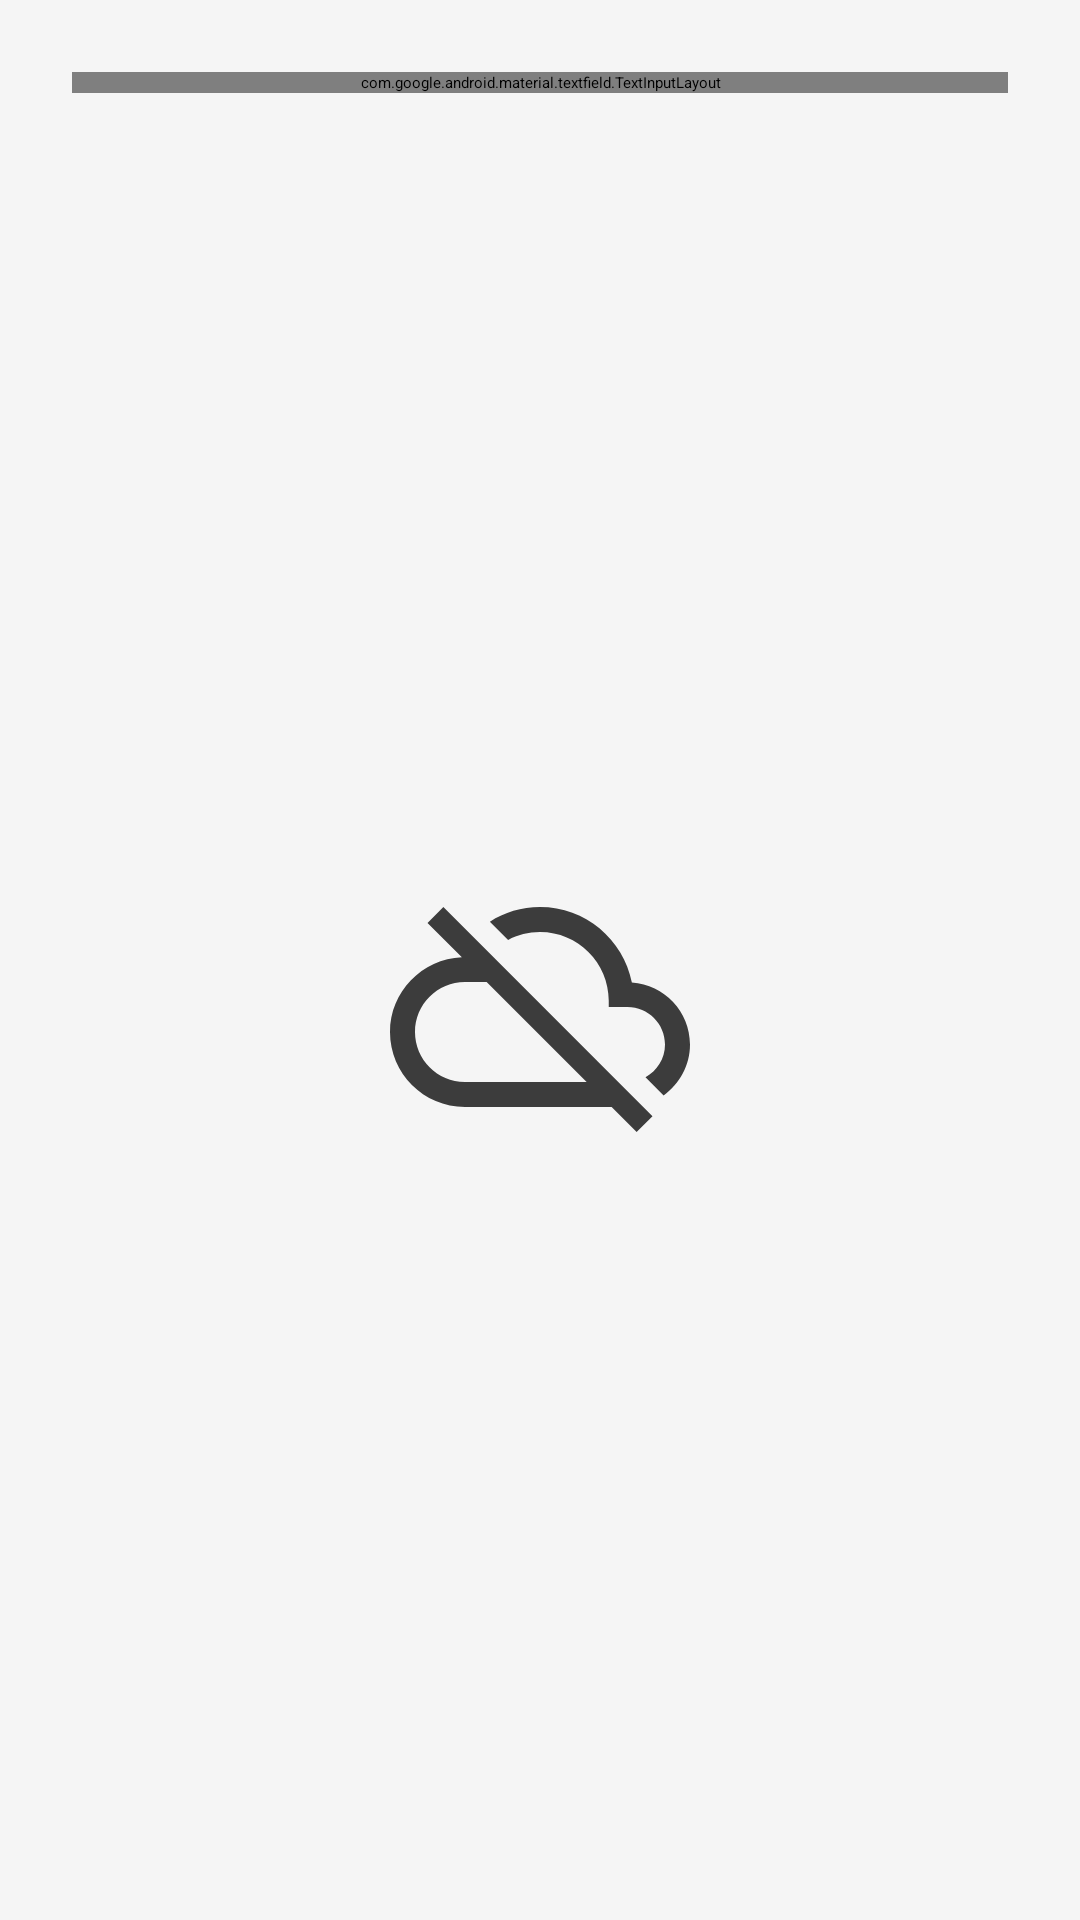

Where icons sit on this 1080x1920 app screen, as (x1, y1, x2, y2):
Error al intentar obtener la lista de usuarios desde la nube: (390, 907, 690, 1132)
